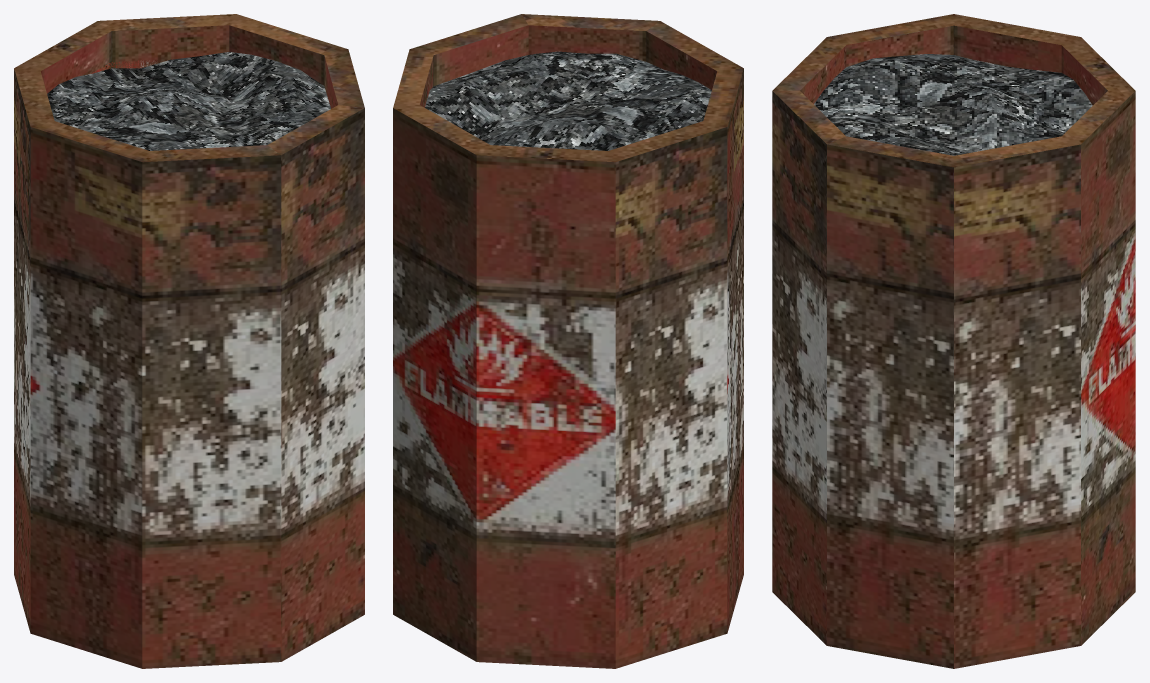
Rendered from ExplosiveBarrel.glb.
3 renders of one model, left to right at view 1: azimuth 30°, elevation 25°; view 2: azimuth 150°, elevation 25°; view 3: azimuth 270°, elevation 25°, orthographic.
Parts seen in each view (by area): view 1: BarrelMesh; view 2: BarrelMesh; view 3: BarrelMesh.
Part boxes in pixels (left/top/right/bottom): BarrelMesh: left=14, top=14, right=364, bottom=668; BarrelMesh: left=393, top=14, right=743, bottom=668; BarrelMesh: left=772, top=14, right=1135, bottom=668.
Size of the model in its own units: 1.52 by 2.31 by 1.52.
Materials: 2 (2 with a texture image).
